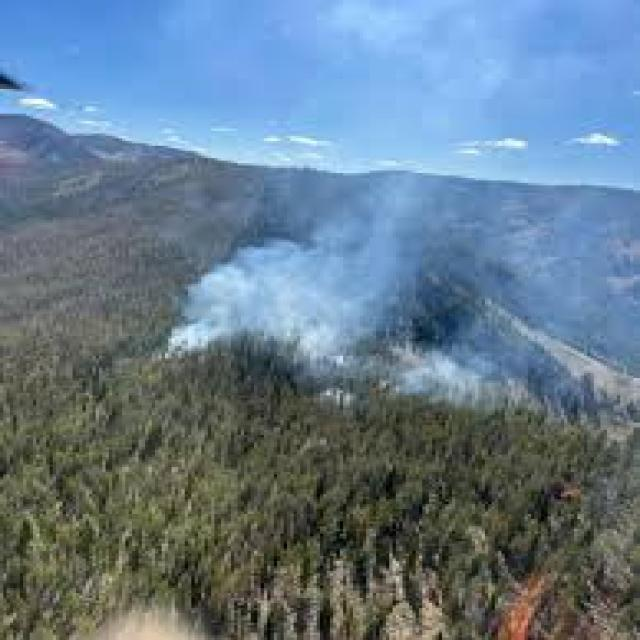Smoke: (155, 172, 640, 428)
